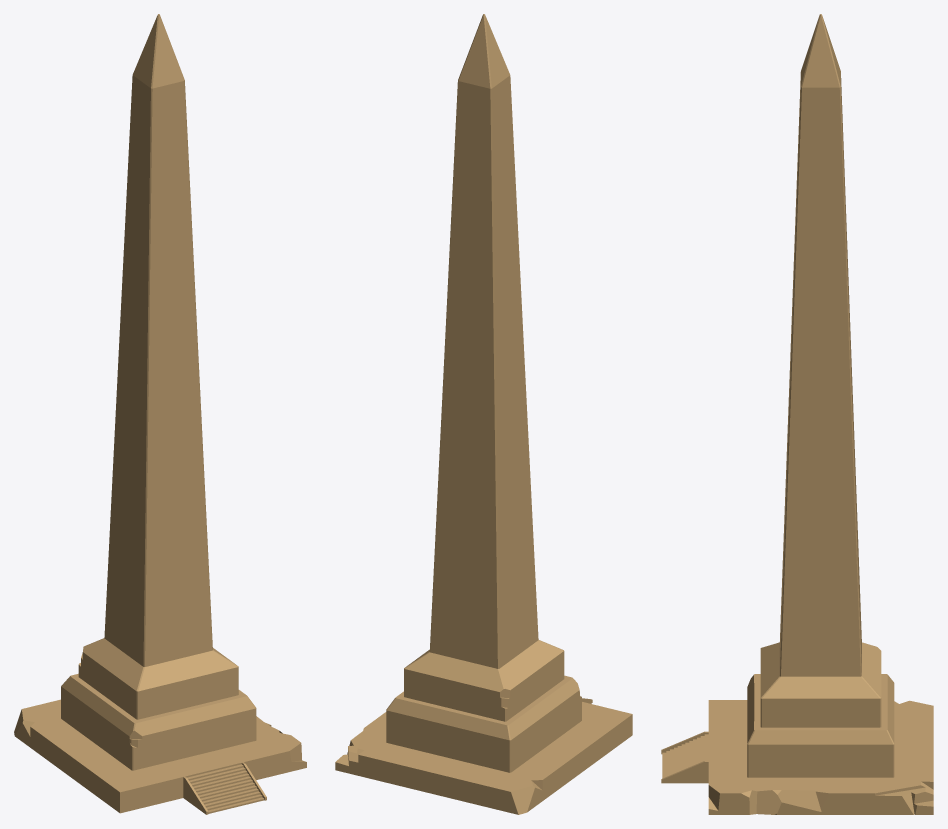
File: EastObelisk.fbx
3 renders of one model, left to right at view 1: azimuth 30°, elevation 25°; view 2: azimuth 150°, elevation 25°; view 3: azimuth 270°, elevation 25°, orthographic. The views are drawn at different scales.
Parts seen in each view (by area): view 1: SunPillar, SunPillar.002, Cube.020; view 2: SunPillar, SunPillar.002; view 3: SunPillar, SunPillar.002, Cube.020.
Part boxes in pixels (<box>): SunPillar: <box>61,14,256,770</box>; SunPillar.002: <box>14,699,306,813</box>; Cube.020: <box>183,762,266,814</box>; SunPillar: <box>386,14,581,772</box>; SunPillar.002: <box>335,702,632,814</box>; SunPillar: <box>747,14,894,777</box>; SunPillar.002: <box>708,700,933,814</box>; Cube.020: <box>661,731,708,783</box>.
Bounding box in the file's own units: 2016 × 7562 × 2478.
